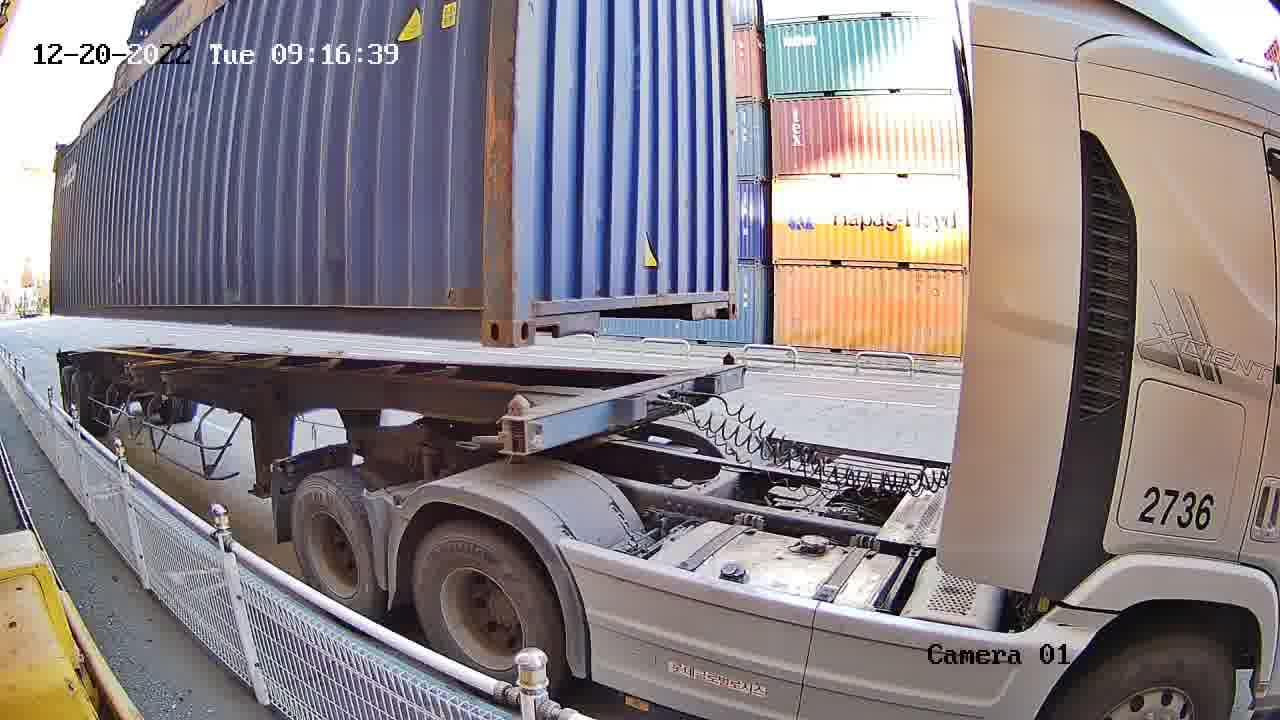Chassis: (502, 362, 743, 453)
Cone: (503, 397, 530, 455), (718, 348, 741, 384)
Hole_L: (513, 277, 569, 346)
Hole_R: (453, 282, 514, 348), (706, 276, 737, 315)
Tire: (413, 524, 560, 682), (290, 475, 375, 609)
